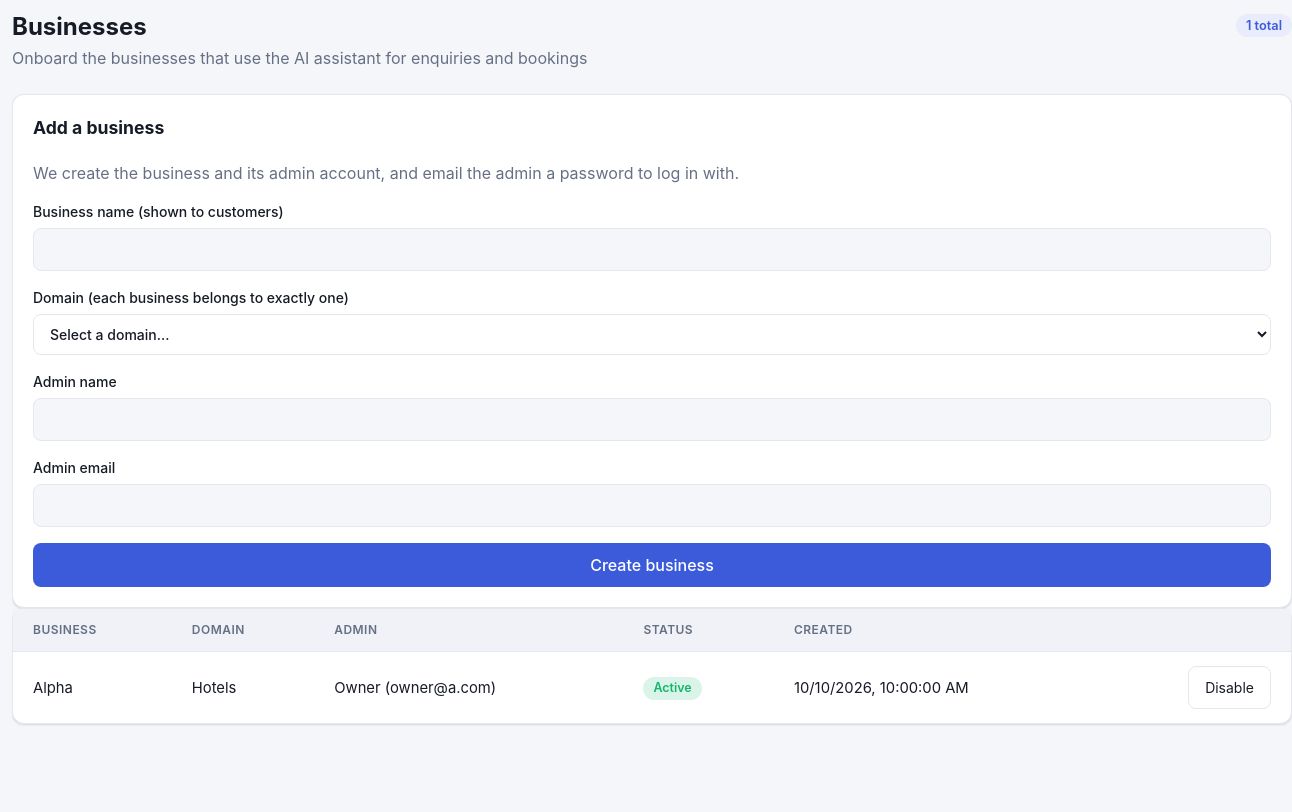
Test: BusinessesPage › disables a business
Click the button "Disable" at (1230, 688), box [1188, 666, 1271, 709]
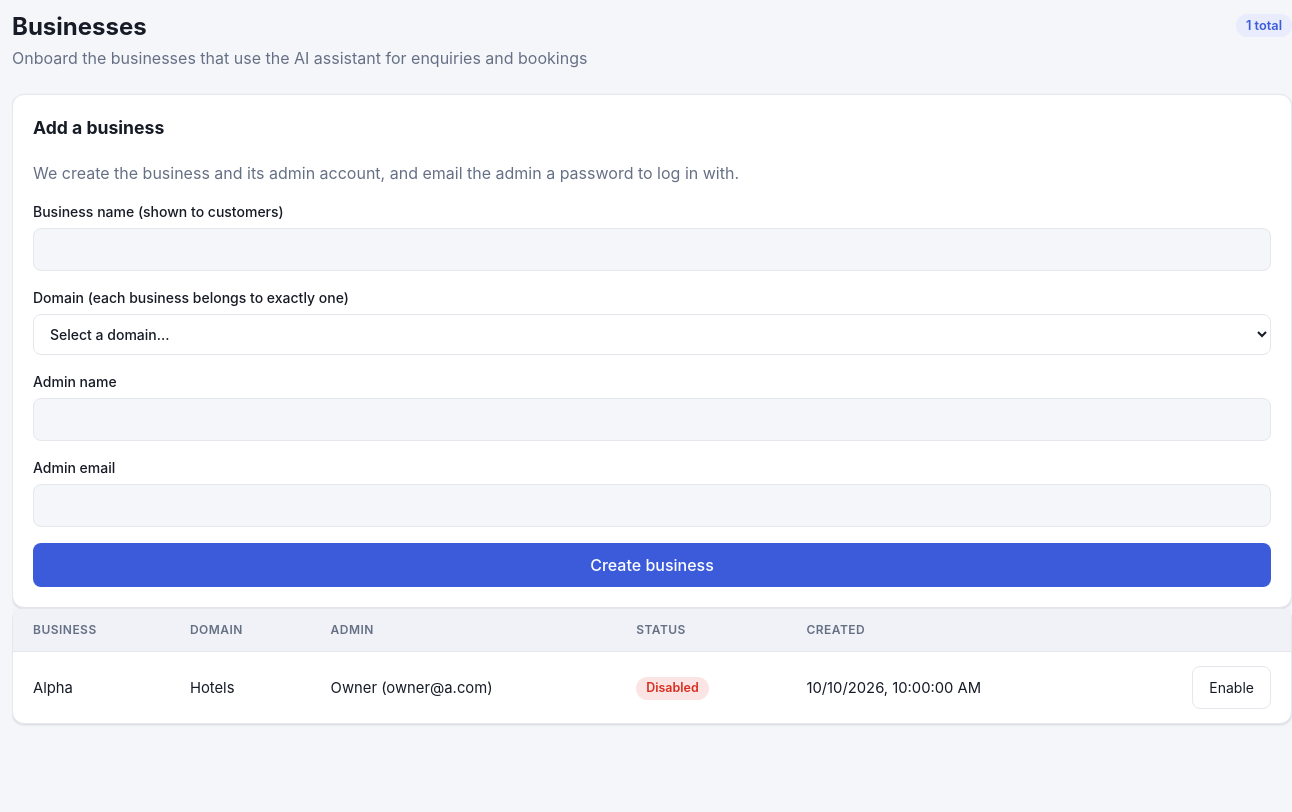
Expected: the button "Enable" is shown, [1192, 666, 1271, 709]
